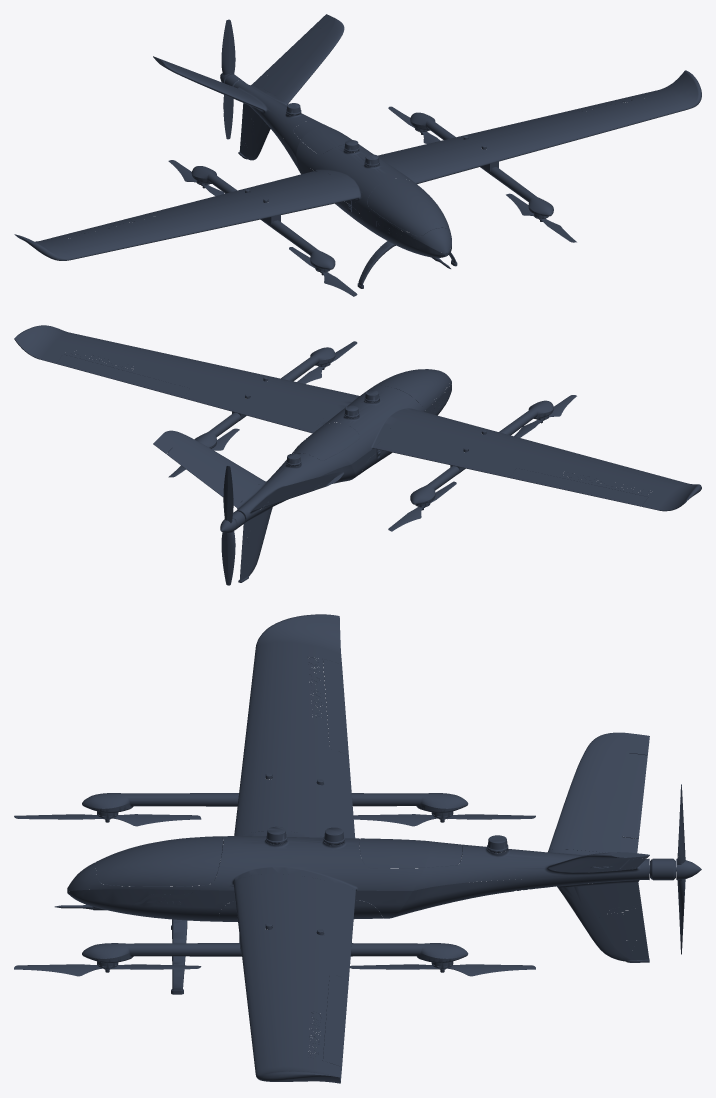
The model's file is mk2-teaser.glb.
3 views of the same model, one above another, from view 1: azimuth 30°, elevation 25°; view 2: azimuth 150°, elevation 25°; view 3: azimuth 270°, elevation 25° (orthographic). The views are drawn at different scales.
Visible parts, largest first — view 1: ILoveMyJob - Copy-1, turbine1 - Copy-1, PropellerLL-1, PropellerRR-2; view 2: ILoveMyJob - Copy-1, turbine1 - Copy-1, PropellerLL-2, PropellerRR-2; view 3: ILoveMyJob - Copy-1, PropellerLL-1, PropellerRR-1, PropellerRR-2, PropellerLL-2, turbine1 - Copy-1.
Part boxes in pixels (x1,y1,x2,y2): ILoveMyJob - Copy-1: [14, 14, 701, 288]; turbine1 - Copy-1: [221, 19, 235, 139]; PropellerLL-1: [506, 193, 576, 242]; PropellerRR-2: [289, 247, 357, 296]; ILoveMyJob - Copy-1: [14, 325, 701, 582]; turbine1 - Copy-1: [221, 465, 235, 585]; PropellerLL-2: [388, 481, 456, 531]; PropellerRR-2: [514, 395, 576, 437]; ILoveMyJob - Copy-1: [54, 614, 701, 1083]; PropellerLL-1: [14, 964, 201, 976]; PropellerRR-1: [350, 964, 535, 976]; PropellerRR-2: [14, 814, 201, 826]; PropellerLL-2: [353, 814, 535, 826]; turbine1 - Copy-1: [677, 784, 685, 954].
Size of the model in its own units: 2.54 by 0.4523 by 1.6.
